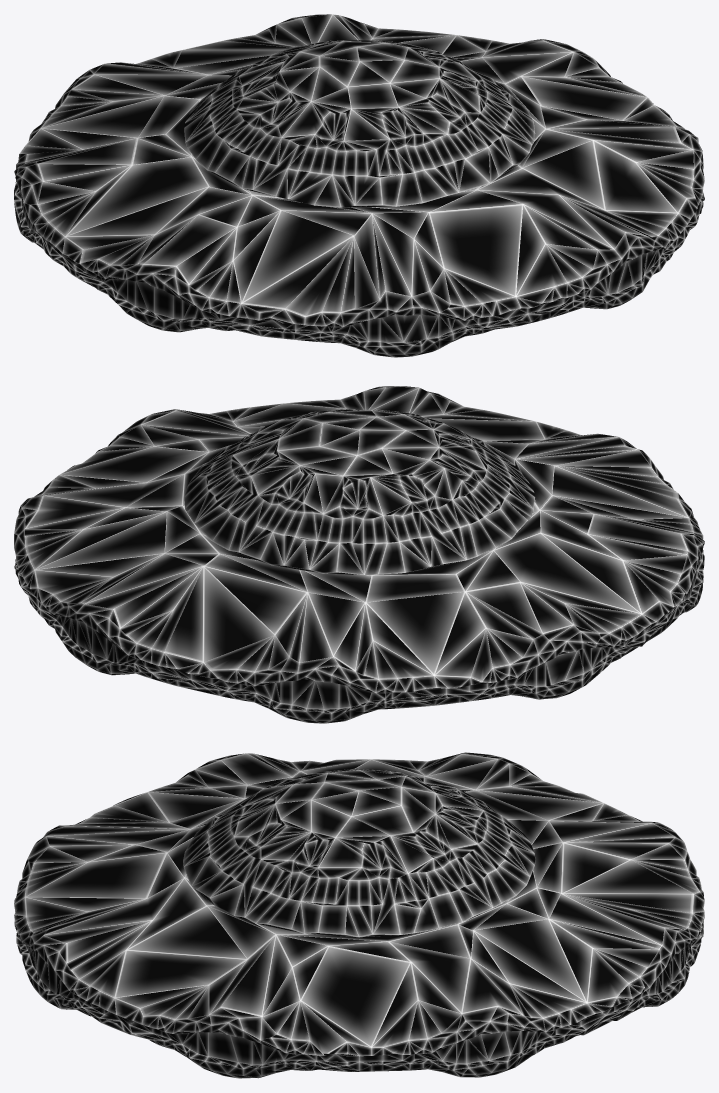
Rendered from frame_034.obj.
3 renders of one model, top to bottom at view 1: azimuth 30°, elevation 25°; view 2: azimuth 150°, elevation 25°; view 3: azimuth 270°, elevation 25°, orthographic.
Visible parts, largest first — view 1: 13884_UFO_Saucer_v1_l2; view 2: 13884_UFO_Saucer_v1_l2; view 3: 13884_UFO_Saucer_v1_l2.
Part boxes in pixels (x1,y1,x2,y2): 13884_UFO_Saucer_v1_l2: [14, 14, 704, 357]; 13884_UFO_Saucer_v1_l2: [14, 386, 704, 723]; 13884_UFO_Saucer_v1_l2: [14, 752, 704, 1078].
Size of the model in its own units: 12.69 by 4.88 by 12.7.
Materials: 1 (1 with a texture image).
